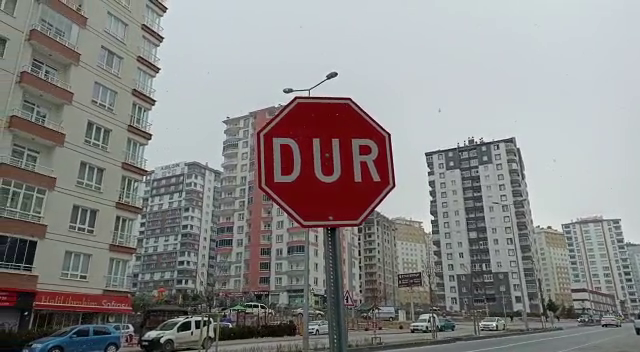stop: (254, 93, 398, 231)
